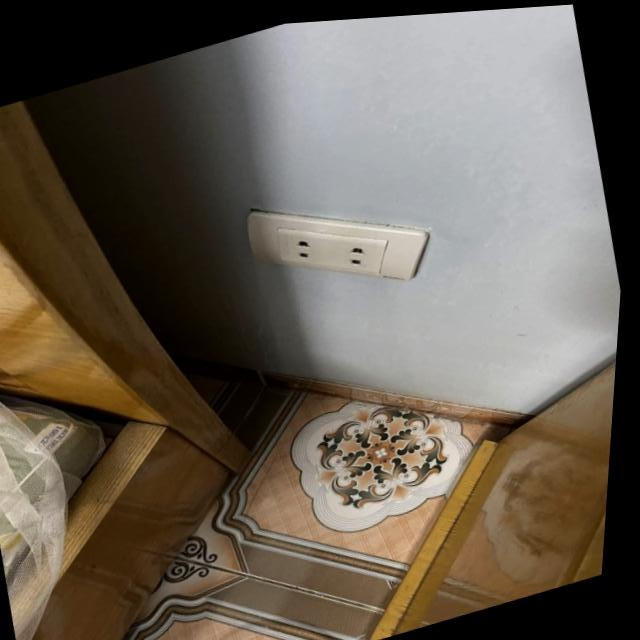outlet: (237, 158, 445, 325)
